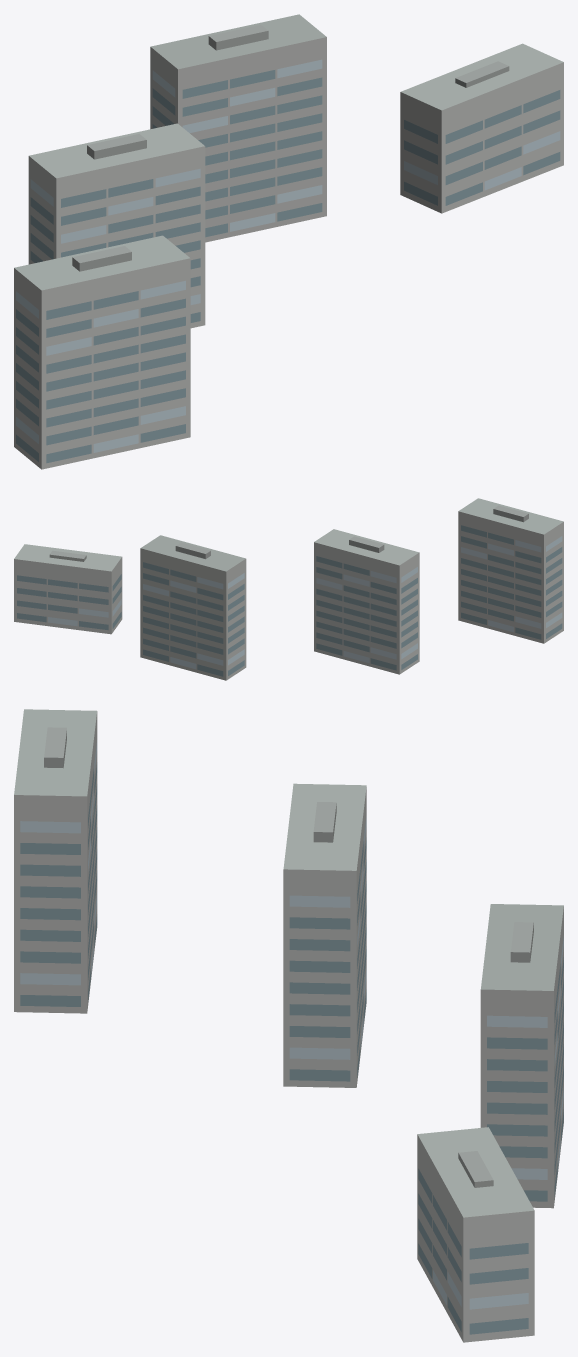
The model's file is apt-a13922001.glb.
3 renders of one model, top to bottom at view 1: azimuth 30°, elevation 25°; view 2: azimuth 150°, elevation 25°; view 3: azimuth 270°, elevation 25°, orthographic. The views are drawn at different scales.
Visible parts, largest first — view 1: apt-a13922001; view 2: apt-a13922001; view 3: apt-a13922001.
Part boxes in pixels (x1,y1,x2,y2): apt-a13922001: (14, 14, 563, 469); apt-a13922001: (14, 498, 563, 680); apt-a13922001: (14, 709, 563, 1342).
Bounding box in the file's own units: 130 × 33 × 72.34.
